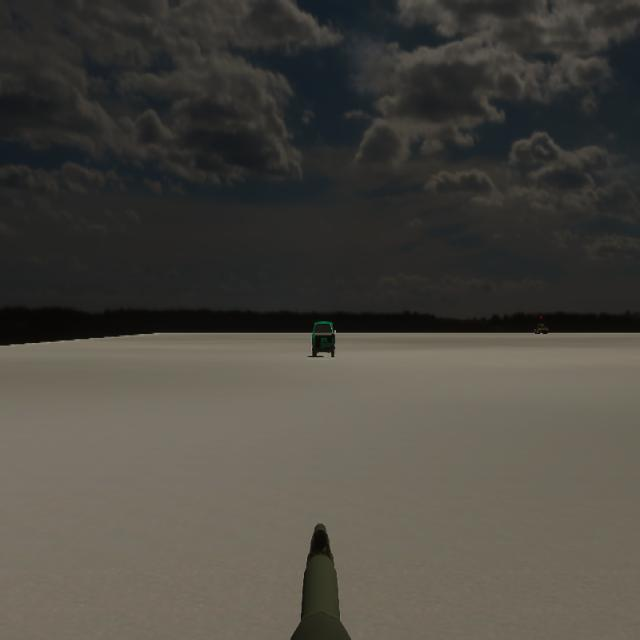green_car: (310, 320, 338, 360)
